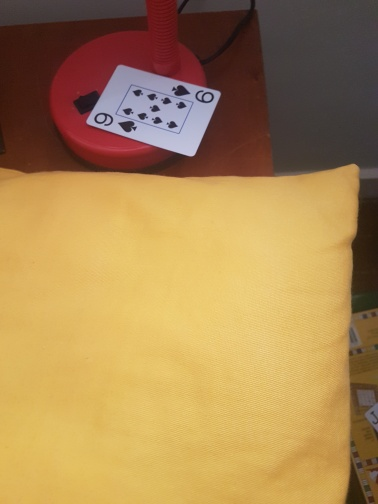nine: (85, 62, 223, 157)
